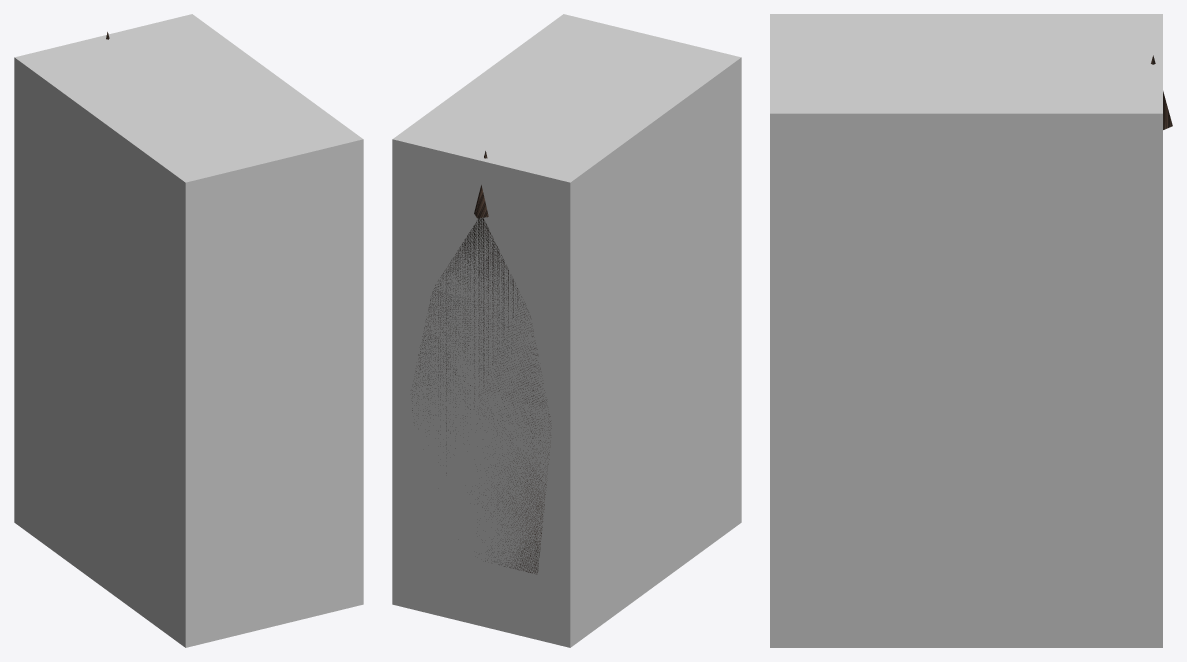
Rendered from wall_sconce_v1_lite.glb.
3 views of the same model, side by side, from view 1: azimuth 30°, elevation 25°; view 2: azimuth 150°, elevation 25°; view 3: azimuth 270°, elevation 25° (orthographic). The views are drawn at different scales.
Parts seen in each view (by area): view 1: col_sconce; view 2: col_sconce, sconce; view 3: col_sconce.
Boxes of the visible parts, x1,y1,x2,y2 form: col_sconce: [14, 14, 363, 647]; col_sconce: [392, 14, 741, 647]; sconce: [412, 151, 551, 574]; col_sconce: [770, 14, 1162, 647].
Size of the model in its own units: 0.24 by 0.61 by 0.41.
3 materials, 3 textured.
